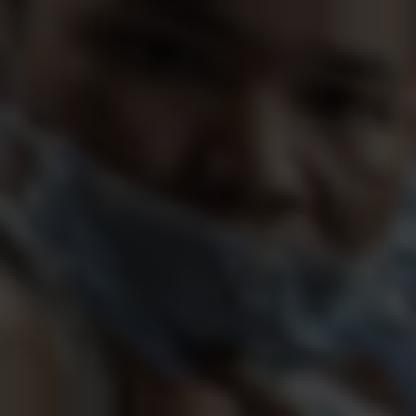mask_weared_incorrect: (0, 0, 394, 371)
